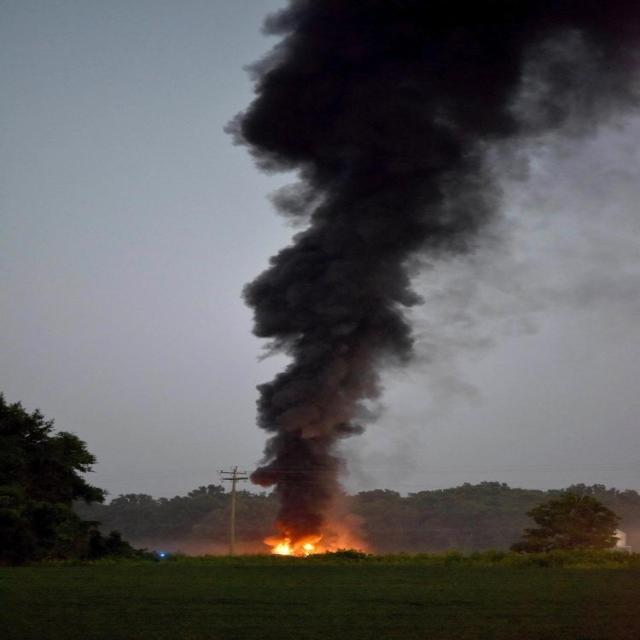Fire: (270, 538, 316, 558)
Smoke: (220, 1, 640, 552)
